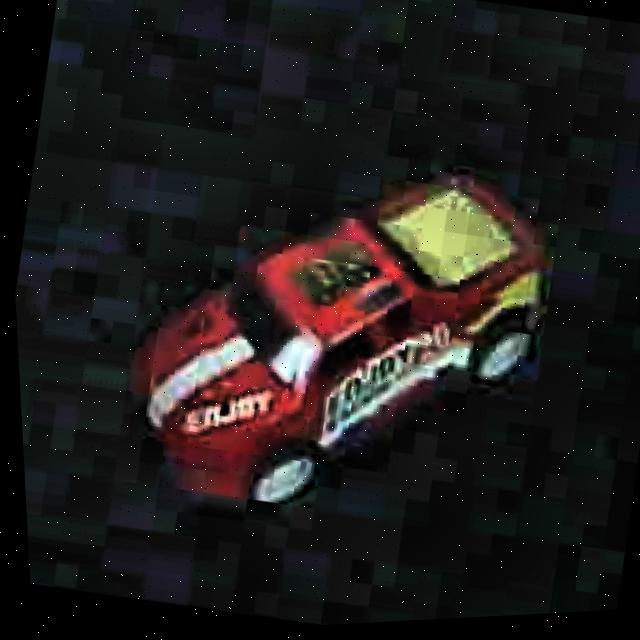car: (92, 87, 592, 574)
